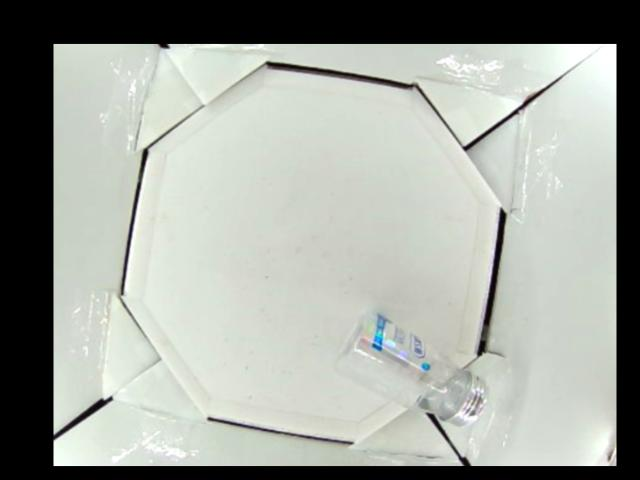Bottle: (333, 308, 489, 430)
